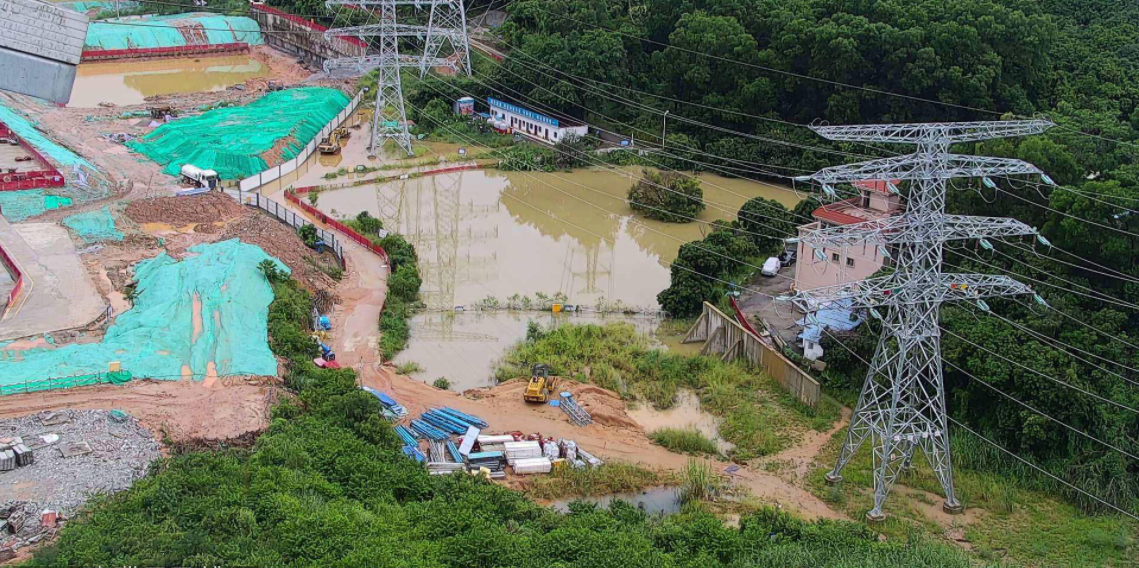绿膜: (0, 235, 293, 397), (123, 85, 353, 180), (0, 97, 104, 178), (83, 17, 187, 50), (0, 187, 74, 224), (60, 205, 124, 243), (188, 15, 265, 46), (61, 0, 141, 13), (145, 10, 223, 21)
